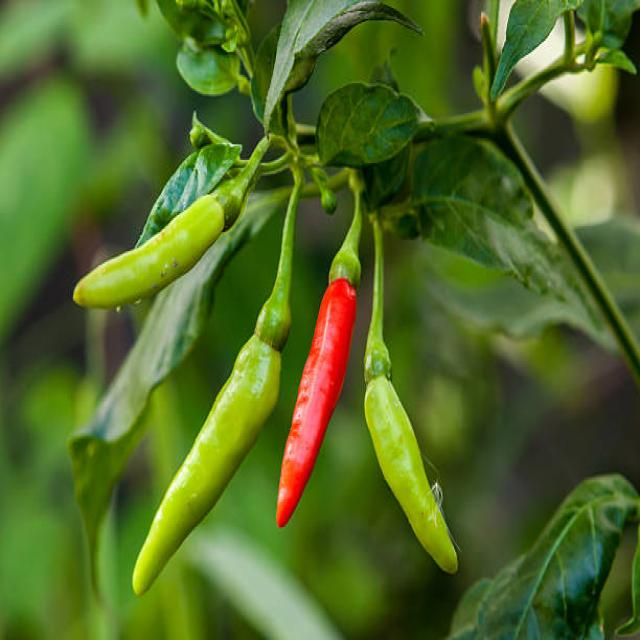Ripe: (276, 278, 356, 525)
Unripe: (134, 334, 279, 593), (365, 375, 456, 571), (75, 195, 224, 307)
